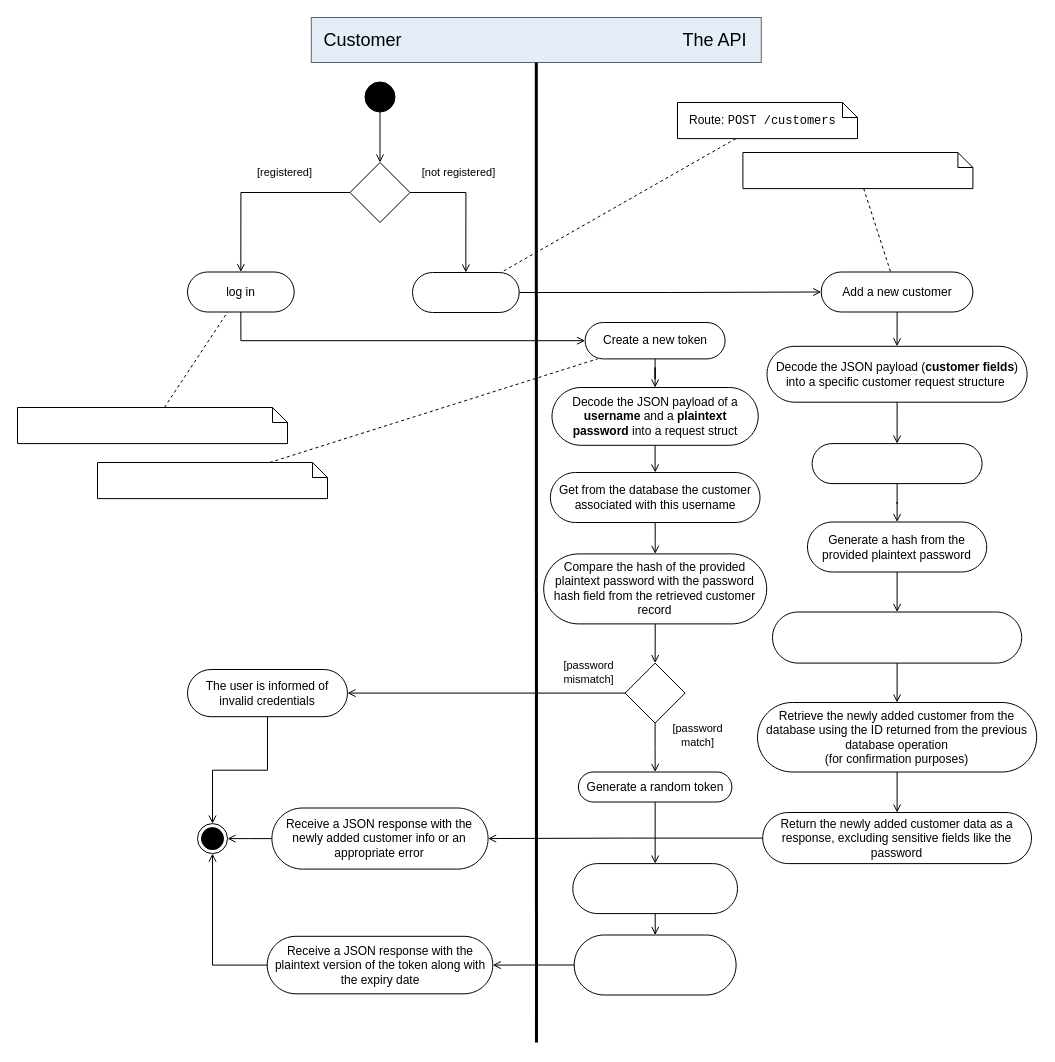
This 1055x1062 diagram has some shape labels left out. Here are the shapes that lost their labels. From the top down, the box of each, then its label:
(742, 152, 973, 189): Handler: Handlers.AddCustomer
(412, 272, 519, 312): Sign up
(16, 406, 288, 444): Route: POST /tokens/authentication
(96, 462, 328, 499): Handler: Handlers.CreateToken
(811, 443, 982, 484): Validate the provided data
(772, 611, 1022, 663): Store the provided data (including the now hashed password) into the database
(572, 863, 738, 914): Save the hashed version of the token in the database
(573, 934, 736, 995): Return the the plaintext version of the newly added token and its expiry date
